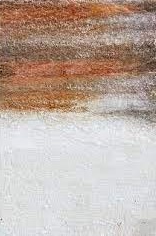Corrosion: (1, 1, 156, 125)
